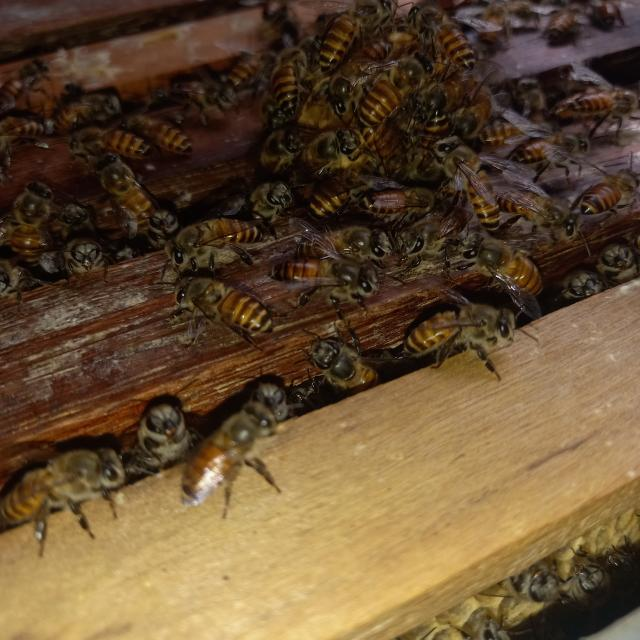honeybee: (0, 447, 127, 557), (184, 400, 274, 532), (401, 300, 524, 377), (263, 244, 388, 316), (165, 270, 271, 345), (88, 146, 166, 238), (305, 318, 380, 411), (150, 218, 282, 269), (401, 0, 496, 68), (439, 139, 508, 230), (363, 51, 435, 135), (391, 207, 475, 276), (490, 183, 580, 245), (328, 40, 394, 118), (319, 0, 376, 90), (466, 232, 541, 298), (306, 157, 379, 224), (139, 385, 189, 481), (8, 178, 61, 267), (223, 174, 299, 234), (47, 86, 137, 136), (508, 126, 594, 176), (114, 110, 213, 152), (290, 225, 392, 264), (549, 85, 640, 128), (580, 165, 640, 230), (0, 43, 54, 115), (268, 38, 312, 121), (168, 70, 240, 118), (566, 556, 612, 630), (68, 123, 148, 165), (358, 185, 454, 220), (513, 556, 565, 616), (299, 128, 369, 172), (548, 265, 607, 316), (601, 521, 640, 595), (220, 42, 276, 89), (66, 224, 113, 278), (511, 75, 552, 134), (260, 127, 308, 175), (0, 108, 50, 154), (598, 240, 640, 294), (422, 97, 454, 167), (545, 0, 587, 52), (477, 117, 541, 149), (456, 92, 503, 135), (250, 374, 295, 414), (418, 67, 481, 95), (589, 0, 630, 40), (256, 93, 295, 134), (477, 3, 508, 48)
